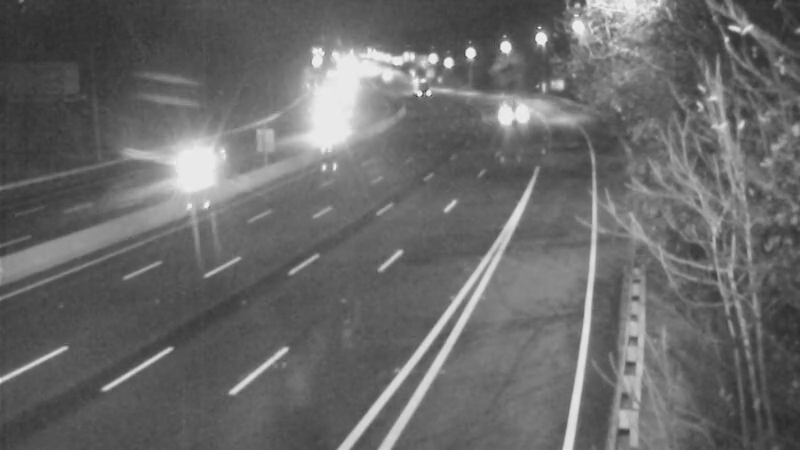vehicle: (152, 119, 232, 199), (388, 60, 438, 110), (481, 89, 531, 139), (300, 106, 350, 156)
